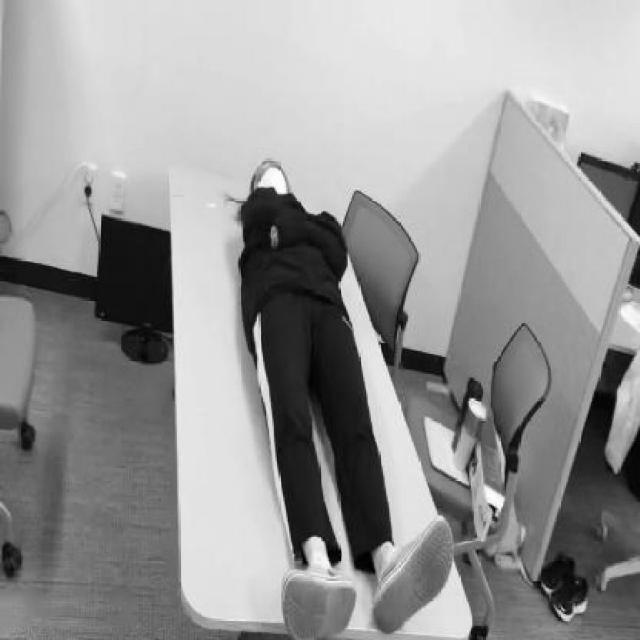person: (226, 153, 457, 639)
